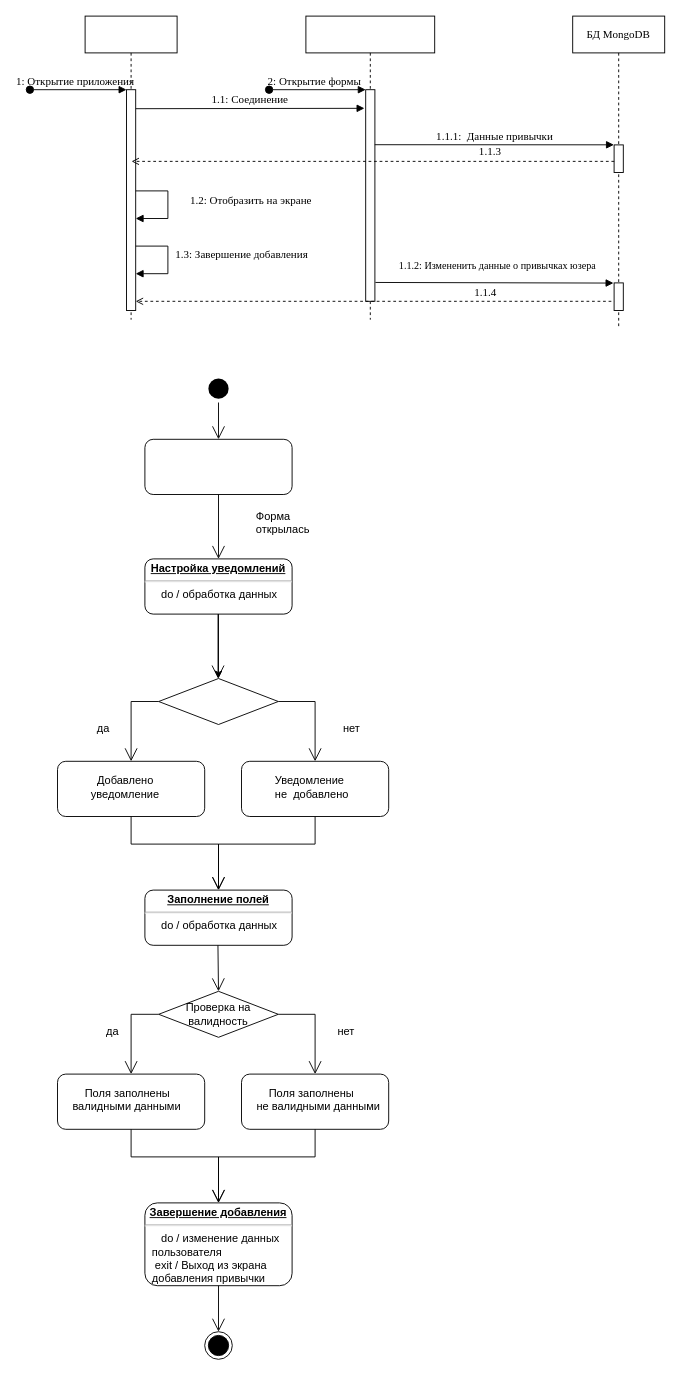
Image size: 681x1375. Some labels were removed from this diagram. Each missing label, with the box of its shape:
Добавить уведомелние: (158, 678, 278, 724)
Добавление привычки do / открыть форму: (144, 438, 292, 494)
Клиент: (84, 15, 177, 320)
Серверное приложение: (305, 15, 435, 320)
